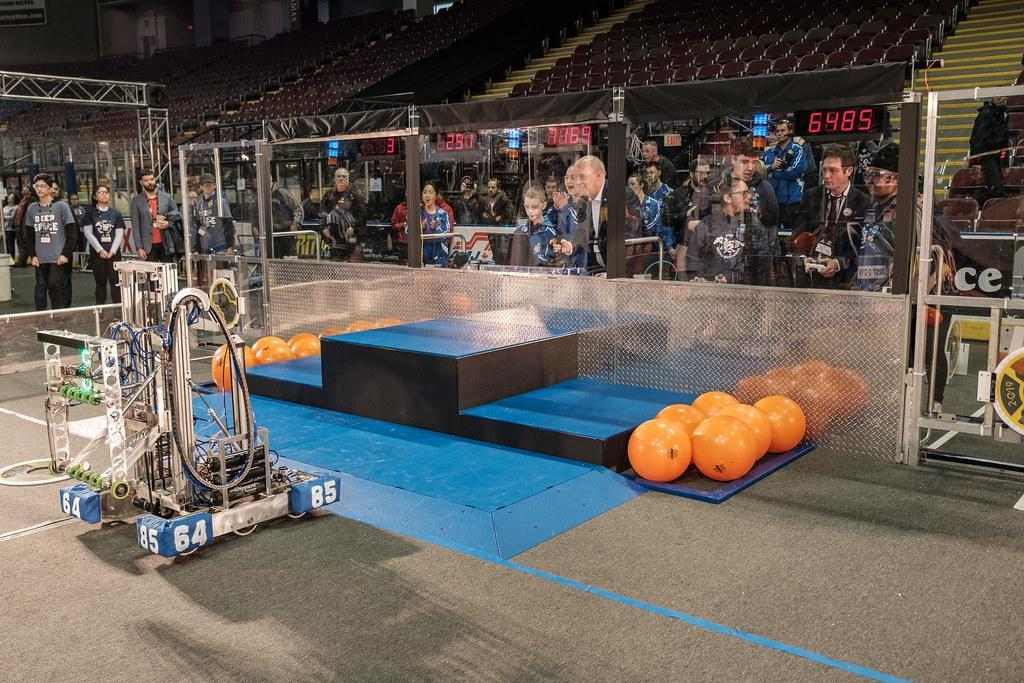robot: (26, 249, 349, 573)
